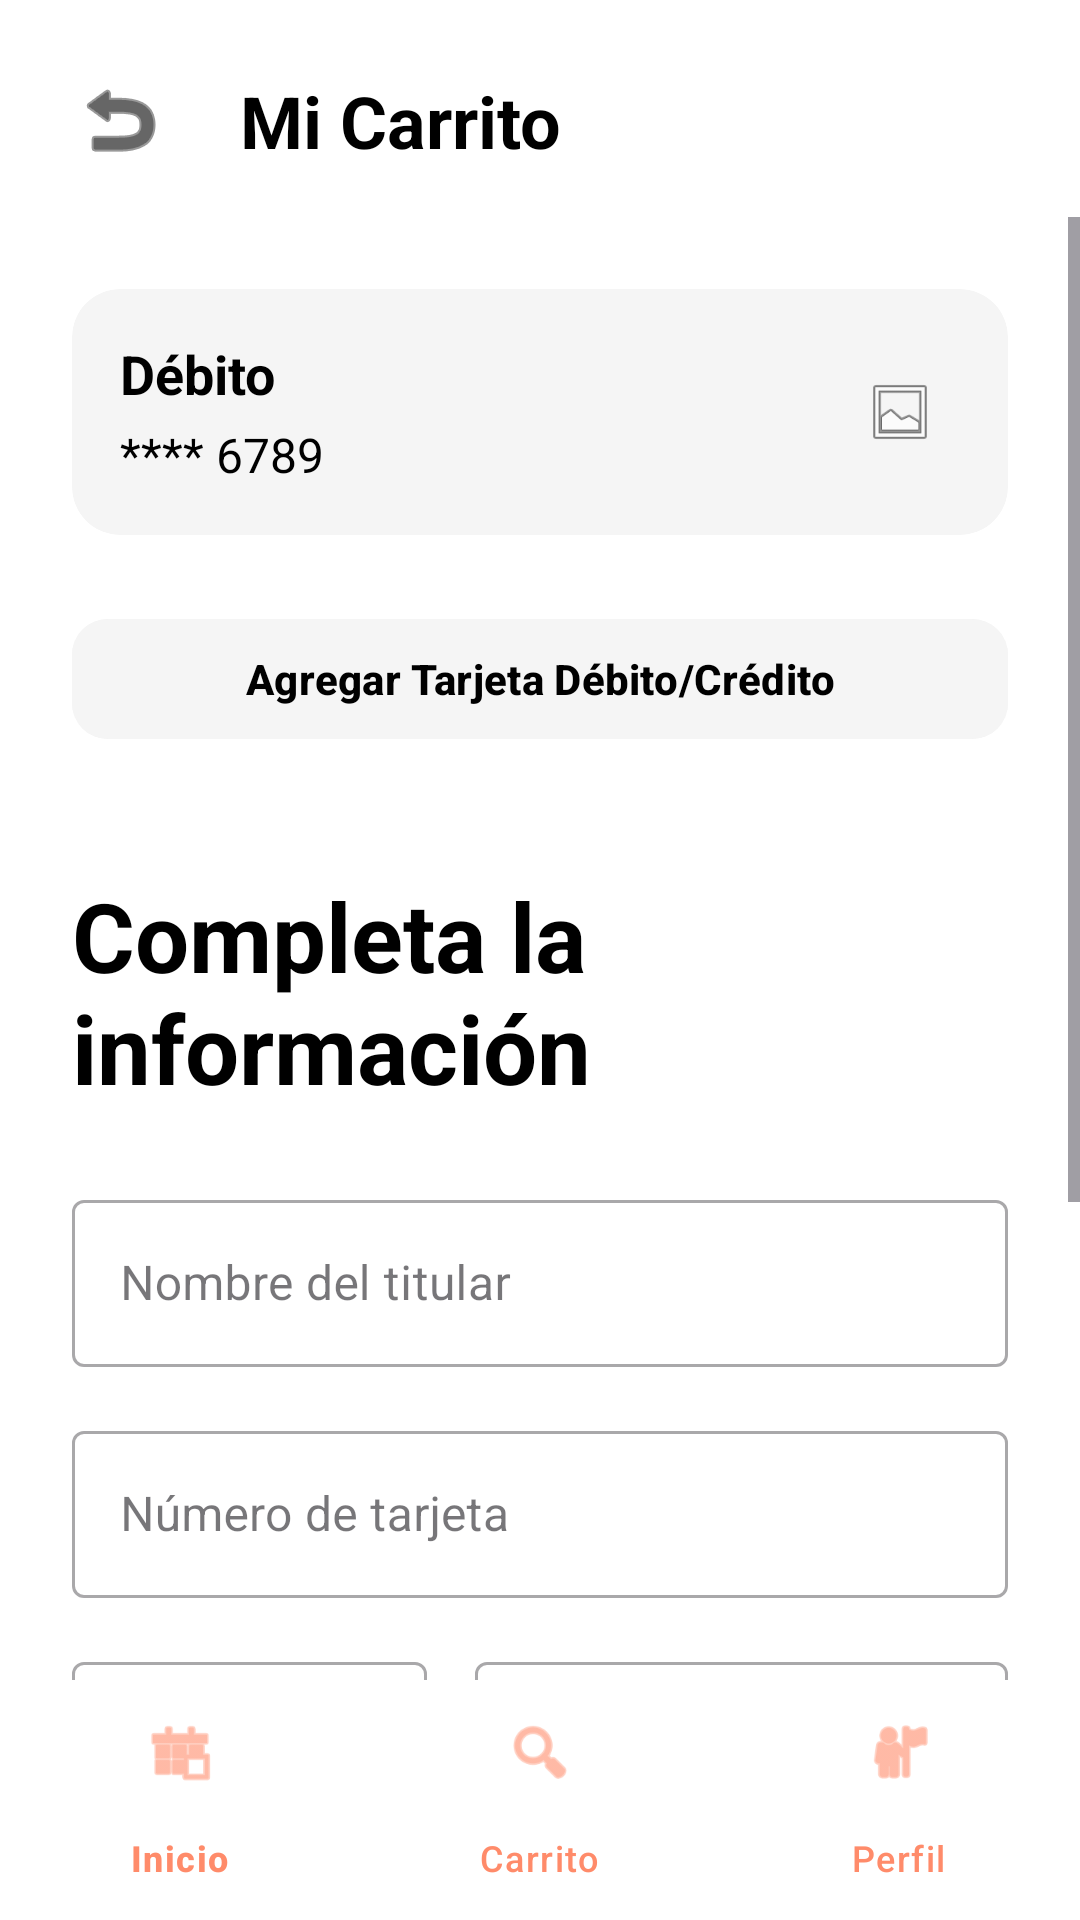

Locate icon controls on the screen. Image size 1080 × 1920, boxes as box(x1, y1, x2, y2).
Atrás: box(87, 89, 156, 152)
